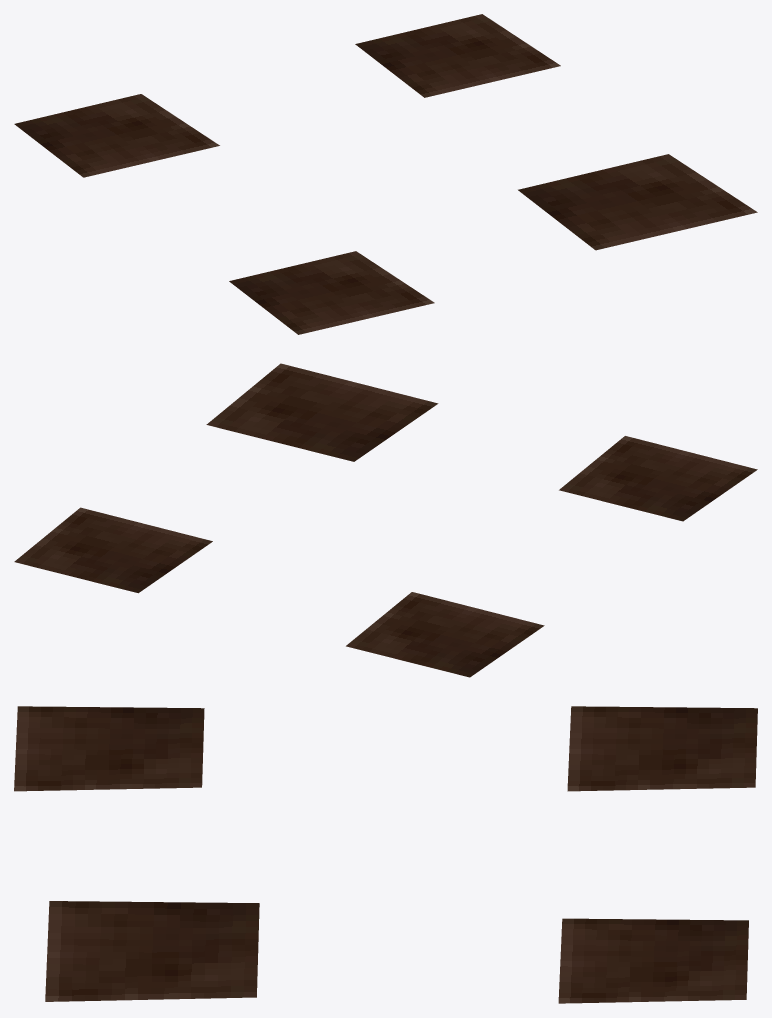
The model's file is spanish_npc_attach_fullarchR_footprint.fbx.
The picture shows the model from 3 angles, top to bottom: view 1: azimuth 30°, elevation 25°; view 2: azimuth 150°, elevation 25°; view 3: azimuth 270°, elevation 25°; orthographic projection. The views are drawn at different scales.
Visible parts, largest first — view 1: footprint; view 2: footprint; view 3: footprint.
Part boxes in pixels (x1,y1,x2,y2): footprint: (14, 14, 757, 334); footprint: (14, 363, 757, 677); footprint: (14, 706, 757, 1003).
Size of the model in its own units: 1123 by 0.000193 by 1188.
Materials: 1 (1 with a texture image).
